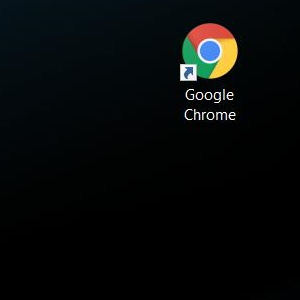chrome: (179, 23, 238, 81)
